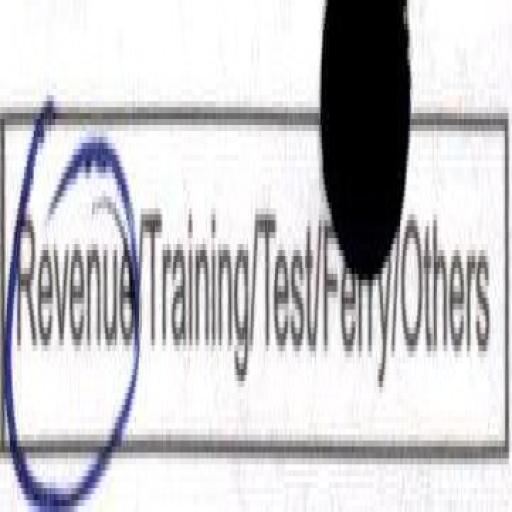check: (1, 65, 142, 512)
